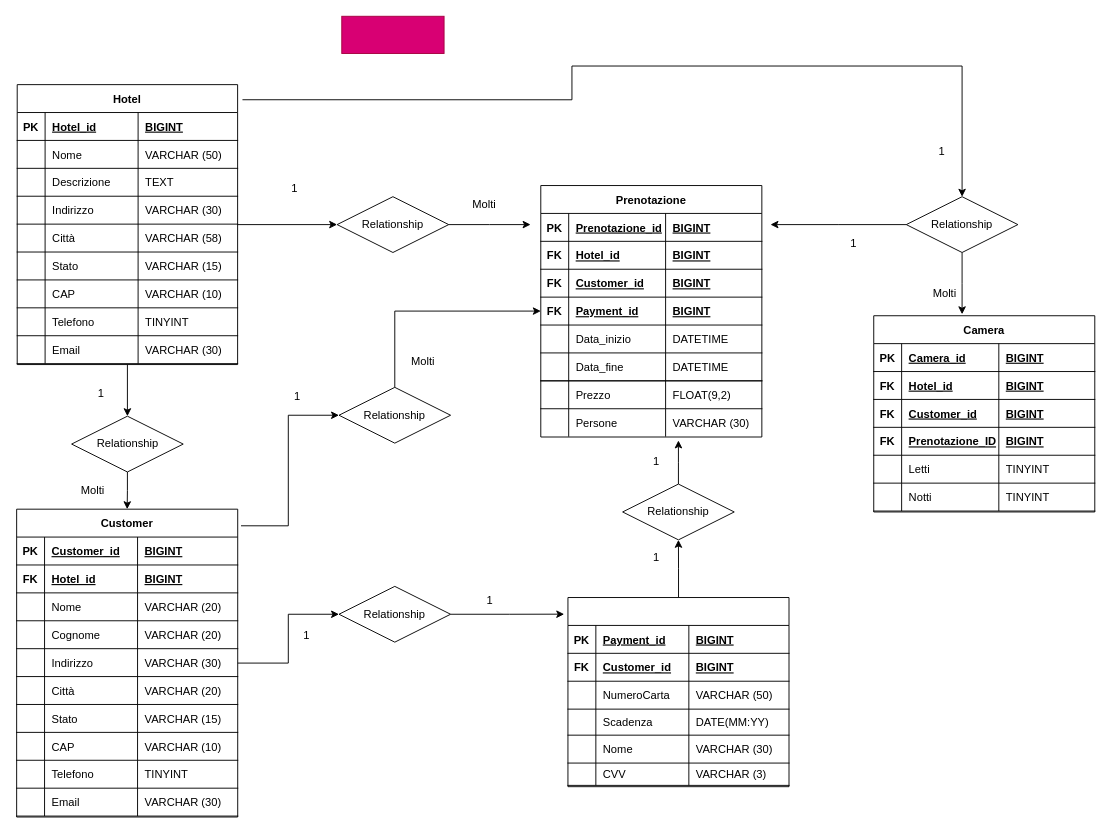
This 1111x833 diagram has some shape labels left out. The shapes that lost their labels are listed below. From the top down, each one's box as (x1, y1, x2, y2) in pixels, then its label:
(341, 15, 444, 53): Hotels
(567, 597, 789, 787): Pagamenti
